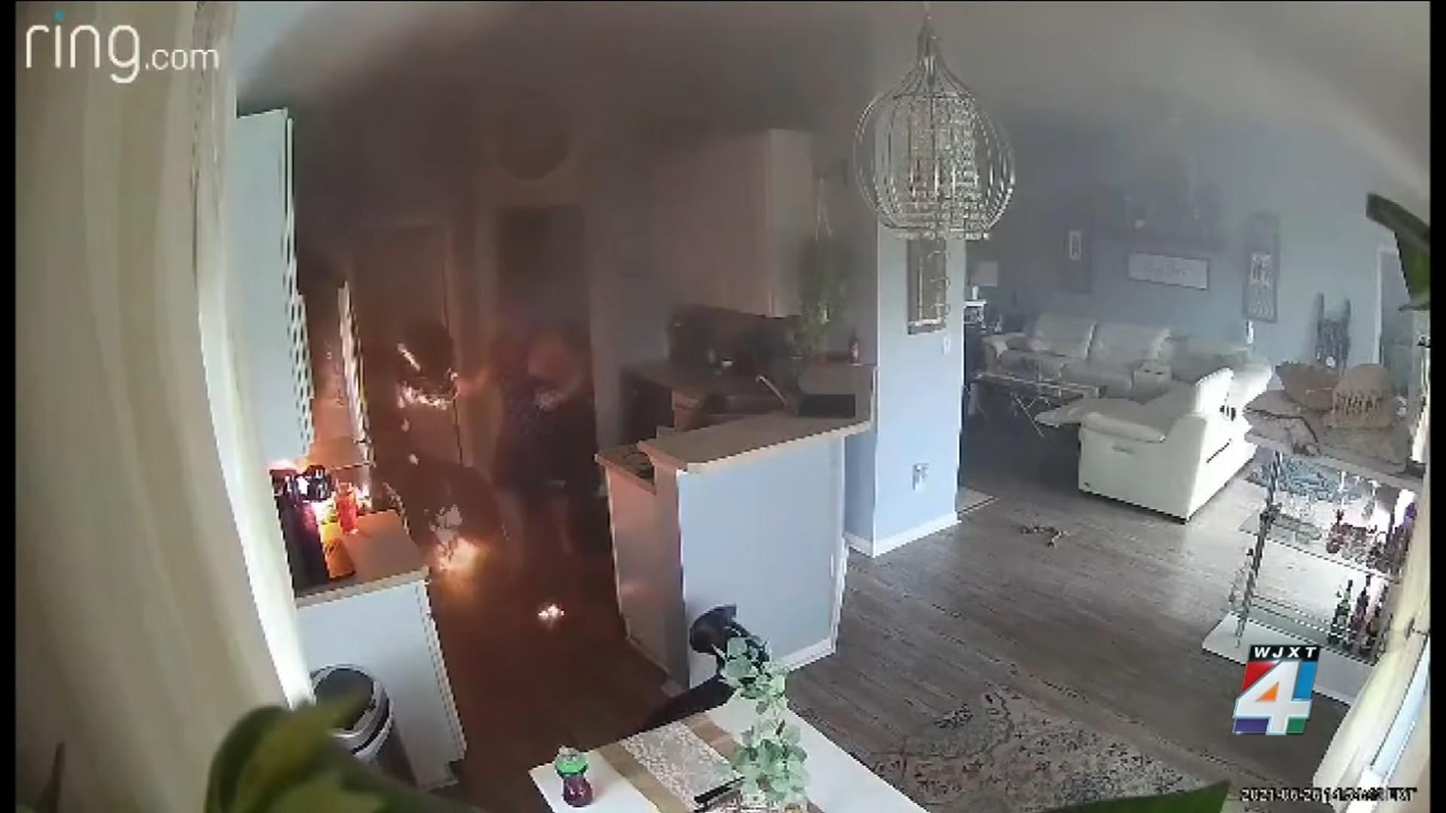fire: (396, 343, 459, 410), (436, 537, 479, 571), (538, 603, 564, 617)
